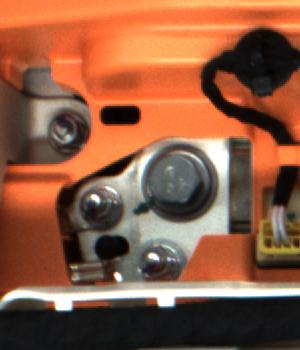nut_b: (141, 140, 224, 225)
screw_s: (71, 176, 115, 221), (132, 240, 180, 281), (42, 110, 80, 147)
